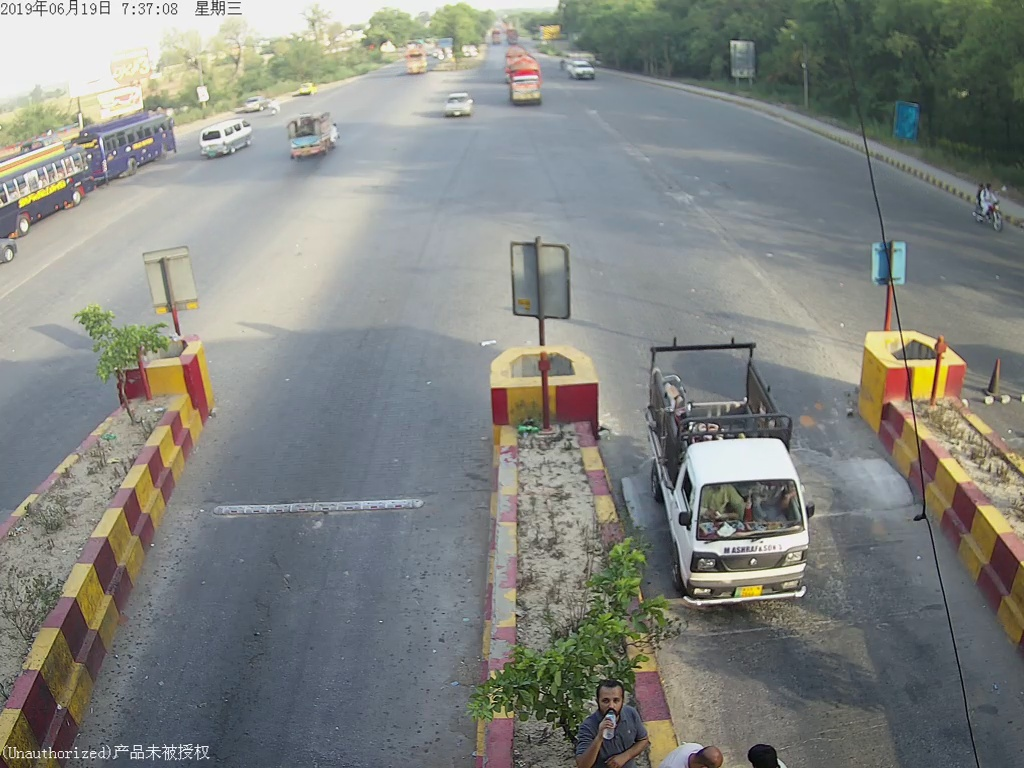Cat-1: (641, 334, 821, 606), (443, 90, 478, 123)
Cat-4: (505, 52, 544, 108)
